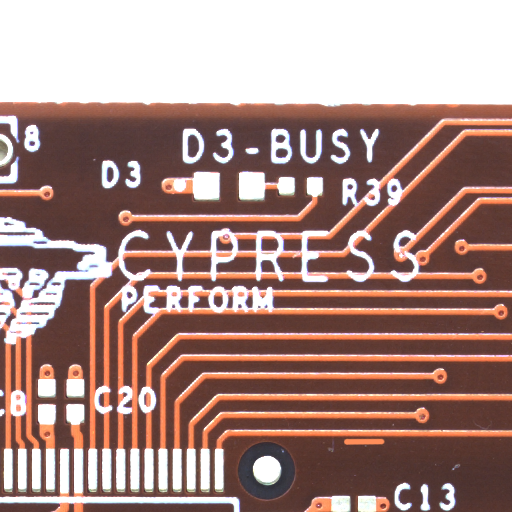Spurious_copper: (363, 441, 406, 450)
